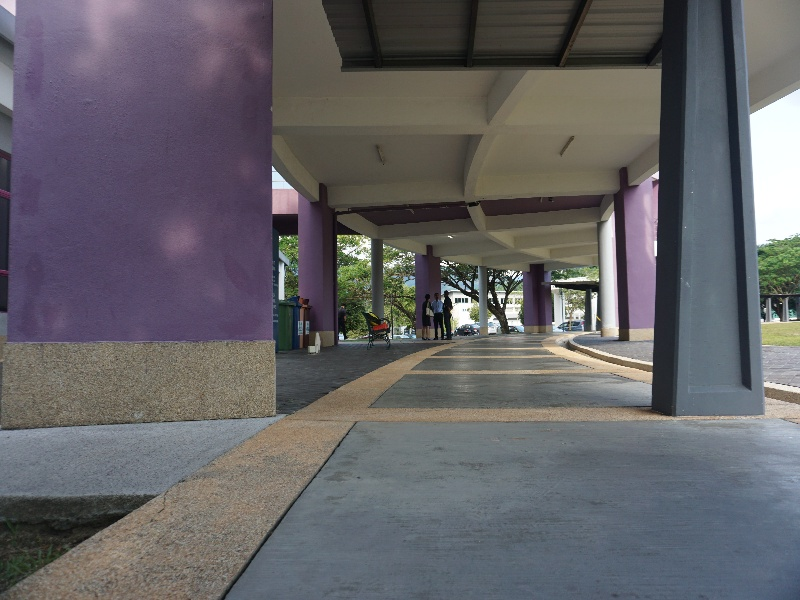Block D Pillar 1: (1, 3, 790, 463)
pillar: (9, 4, 295, 431), (652, 3, 787, 434), (614, 160, 662, 345), (293, 175, 342, 352), (362, 232, 392, 340), (520, 263, 557, 340), (475, 262, 494, 342)
